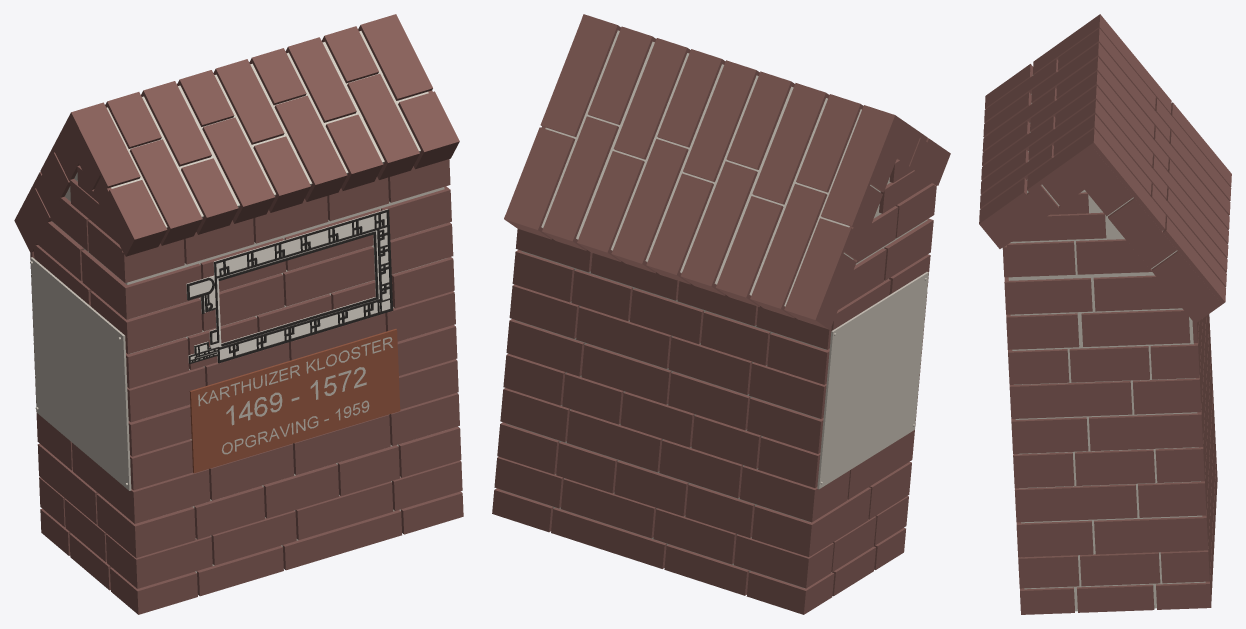
The model's file is bim.glb.
3 renders of one model, left to right at view 1: azimuth 30°, elevation 25°; view 2: azimuth 150°, elevation 25°; view 3: azimuth 270°, elevation 25°, orthographic. The views are drawn at different scales.
Parts seen in each view (by area): view 1: part_1, part_4, part_2, part_5, part_3; view 2: part_1, part_4; view 3: part_1, part_4.
Boxes of the visible parts, left/top/right/bottom form: part_1: left=14, top=14, right=463, bottom=614; part_4: left=30, top=31, right=446, bottom=572; part_2: left=189, top=329, right=400, bottom=473; part_5: left=187, top=209, right=393, bottom=363; part_3: left=186, top=209, right=390, bottom=362; part_1: left=492, top=14, right=950, bottom=614; part_4: left=500, top=30, right=928, bottom=588; part_1: left=979, top=14, right=1231, bottom=614; part_4: left=1008, top=75, right=1205, bottom=611.
Size of the model in its own units: 1.89 by 2.58 by 1.23.
